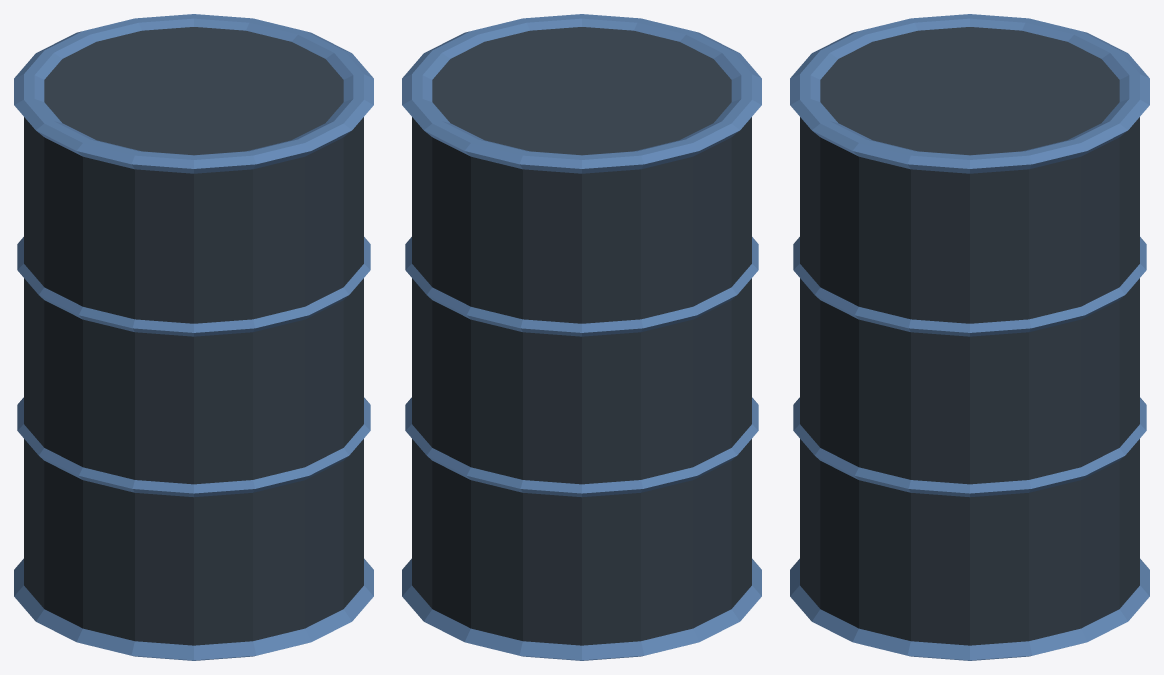
File: barrel.fbx
3 renders of one model, left to right at view 1: azimuth 30°, elevation 25°; view 2: azimuth 150°, elevation 25°; view 3: azimuth 270°, elevation 25°, orthographic.
Visible parts, largest first — view 1: barrel; view 2: barrel; view 3: barrel.
Boxes of the visible parts, bbox=[...] form: barrel: bbox=[14, 14, 373, 660]; barrel: bbox=[402, 14, 761, 660]; barrel: bbox=[790, 14, 1149, 660].
Size of the model in its own units: 85.42 by 129 by 84.12.
Materials: 1 (1 with a texture image).
